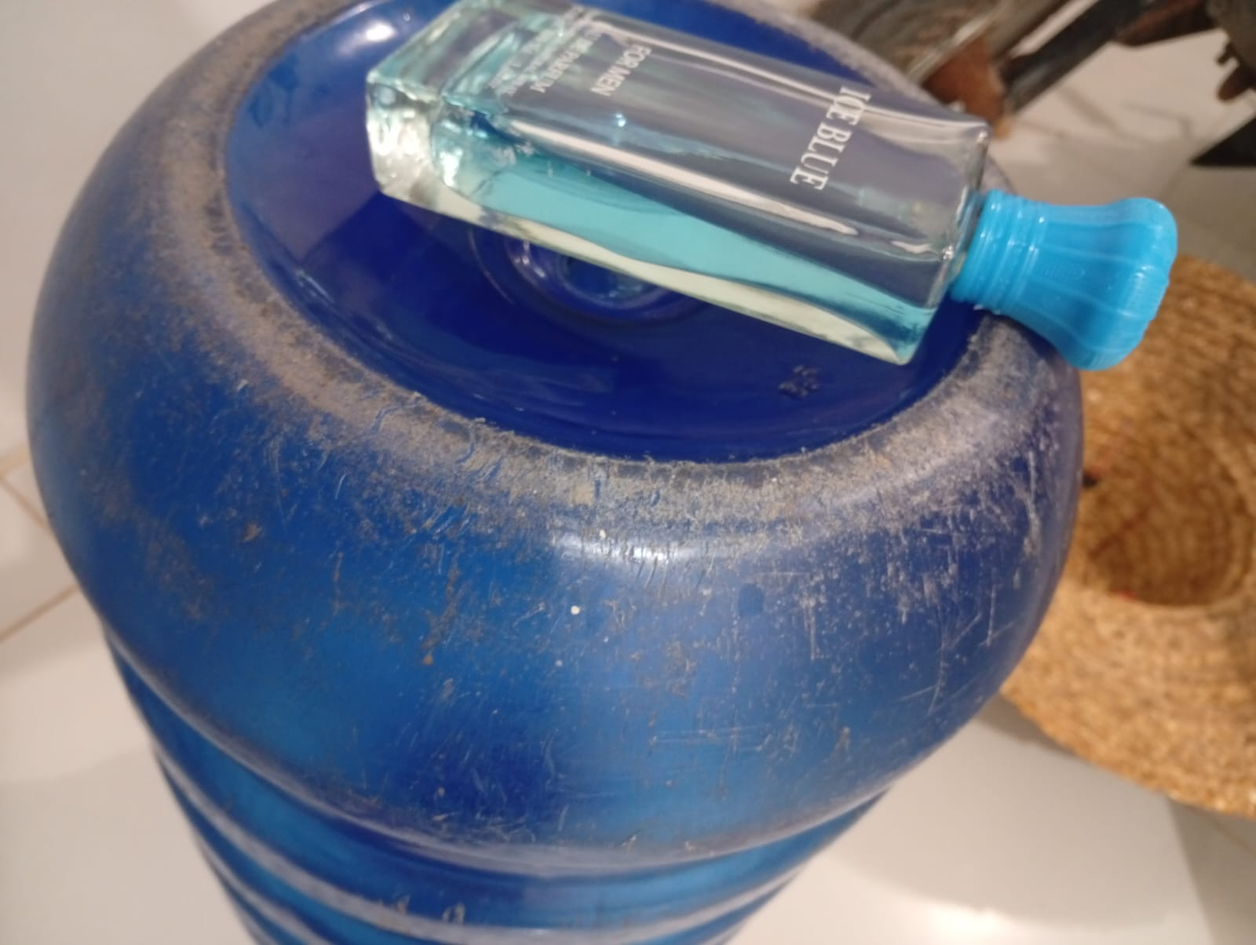Parfum: (344, 3, 1191, 403)
